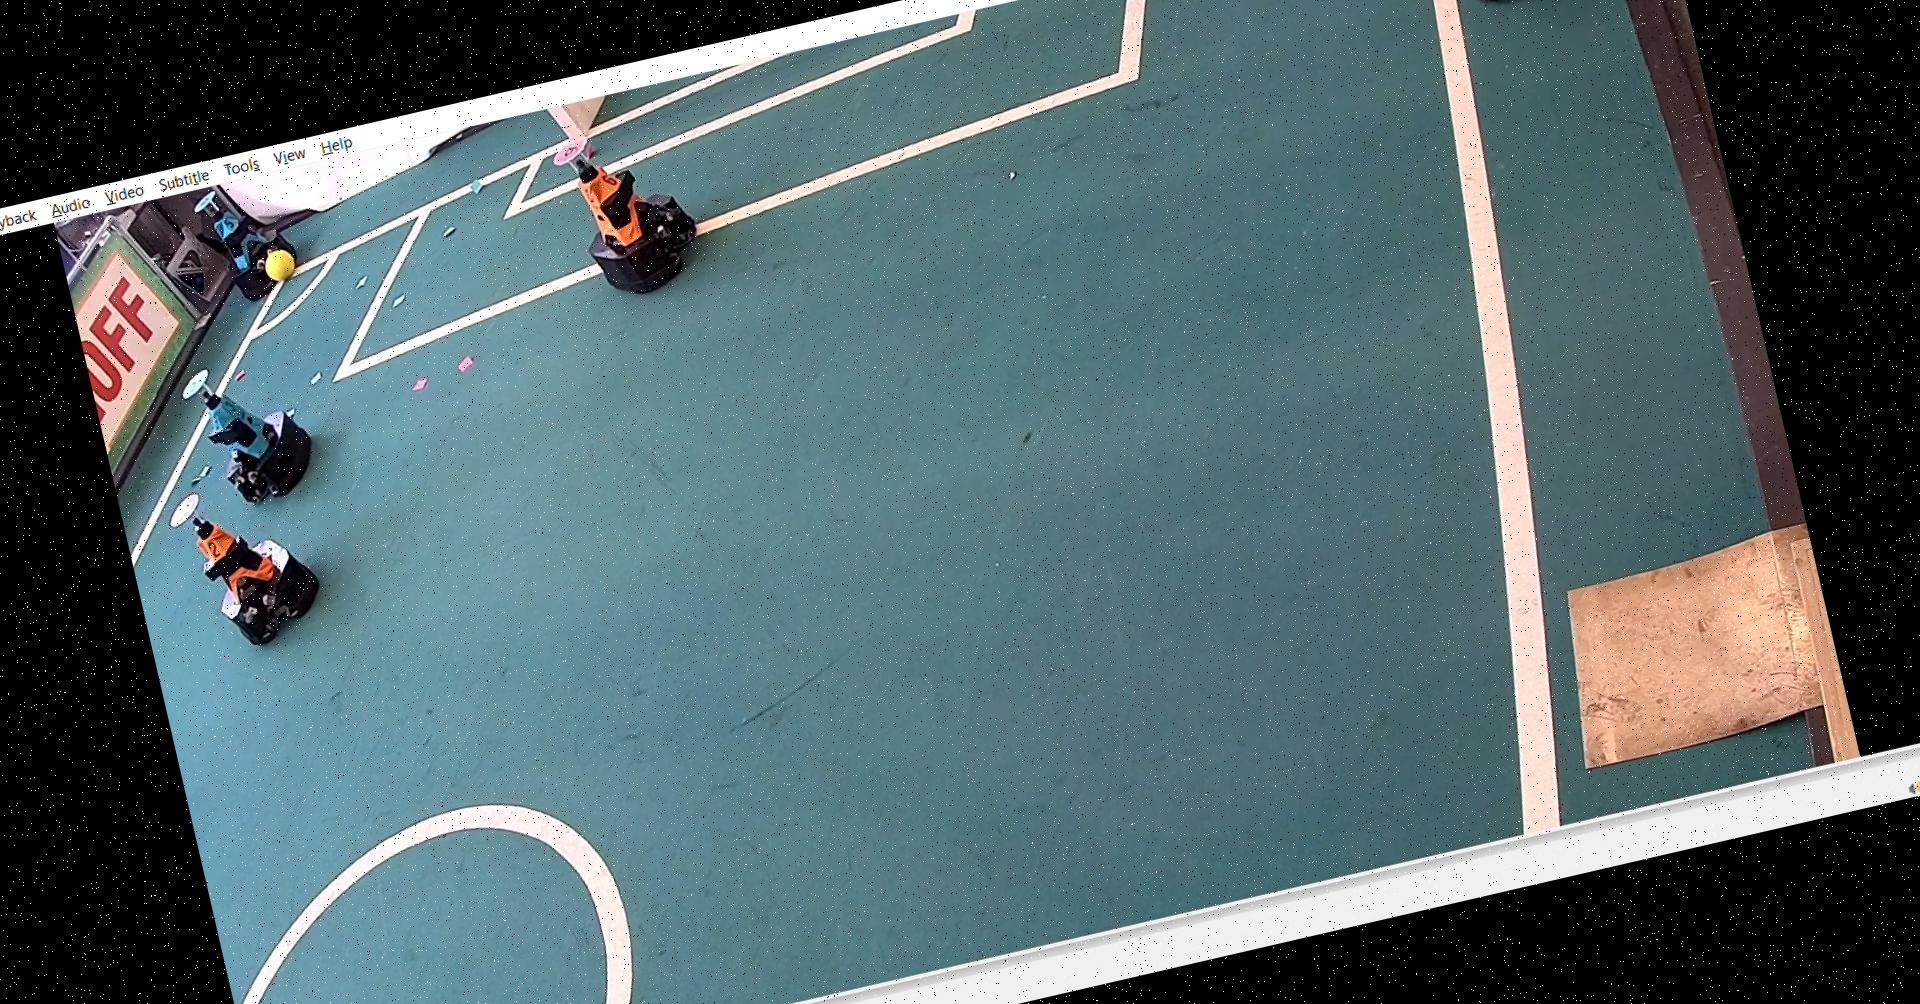Ball: (258, 241, 298, 286)
Team_Blue: (177, 341, 325, 520), (194, 173, 314, 305)
Team_Red: (160, 459, 333, 652), (549, 118, 705, 314)
